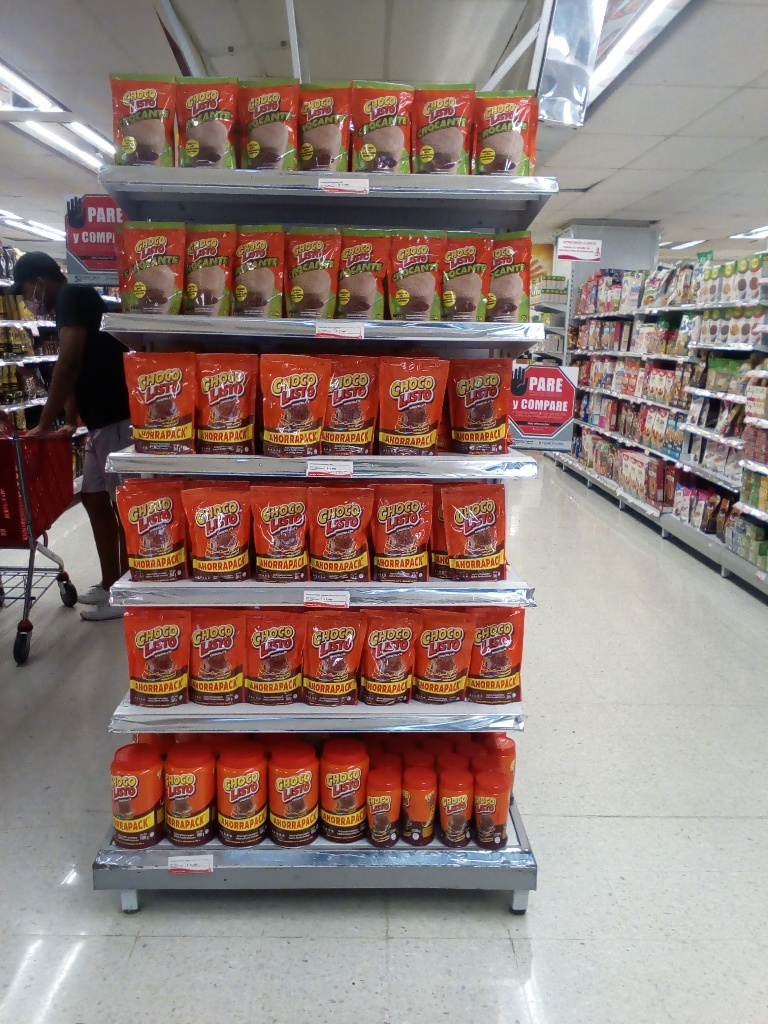COL0170102DYP50000: (109, 72, 178, 168)
COL0170103DYP44000: (121, 350, 198, 457)
COL0170103TRR00100: (108, 747, 166, 851)
COL0170103TRR30000: (365, 767, 402, 849)
